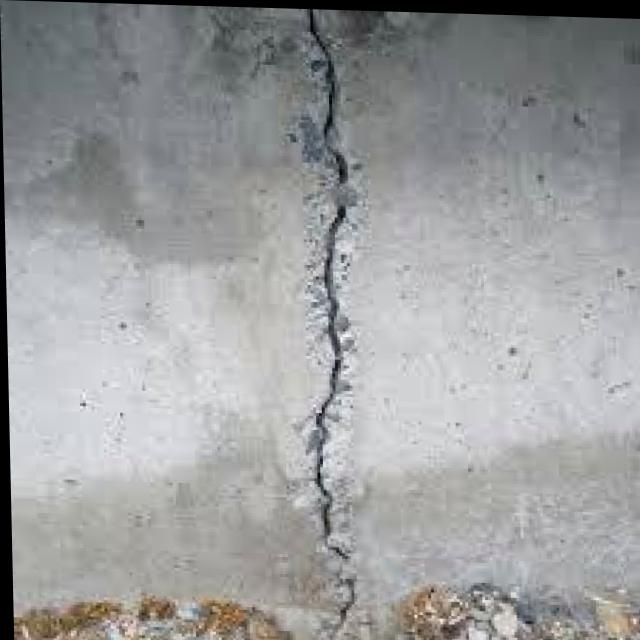Crack: (240, 14, 402, 640)
